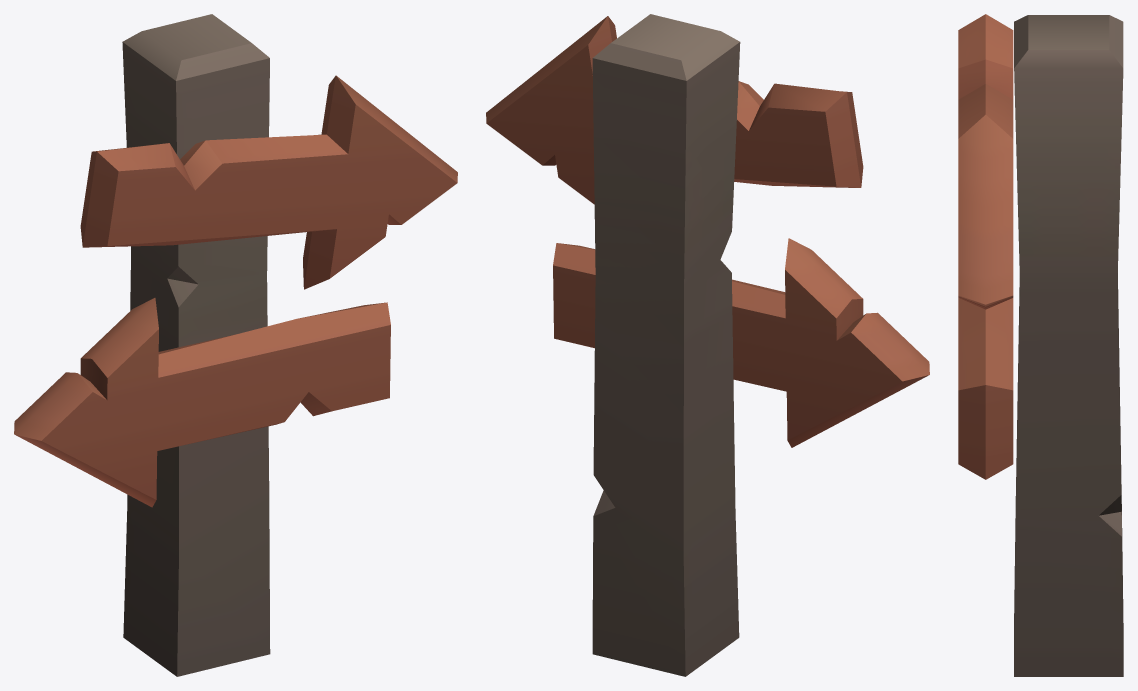
Rendered from sign_both.glb.
The picture shows the model from 3 angles, left to right: view 1: azimuth 30°, elevation 25°; view 2: azimuth 150°, elevation 25°; view 3: azimuth 270°, elevation 25°; orthographic projection. The views are drawn at different scales.
Visible parts, largest first — view 1: sign_both; view 2: sign_both; view 3: sign_both.
Part boxes in pixels (box(x1,y1,x2,y2)): sign_both: box(14, 14, 457, 676); sign_both: box(486, 14, 929, 676); sign_both: box(958, 14, 1123, 676).
Size of the model in its own units: 1.91 by 2.5 by 0.6024.
1 material, 1 textured.
